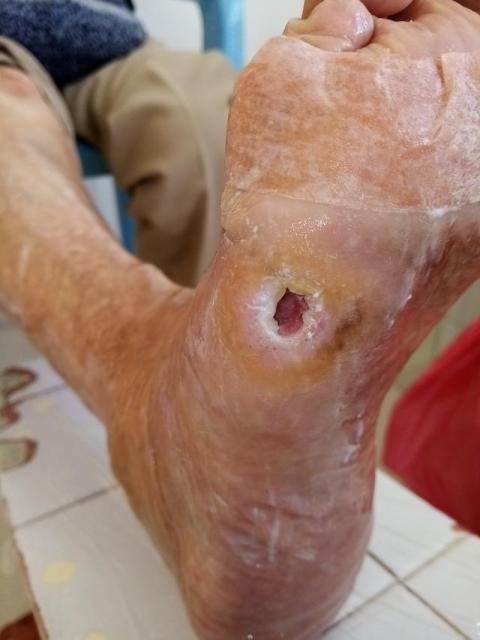wound: (249, 271, 336, 358)
